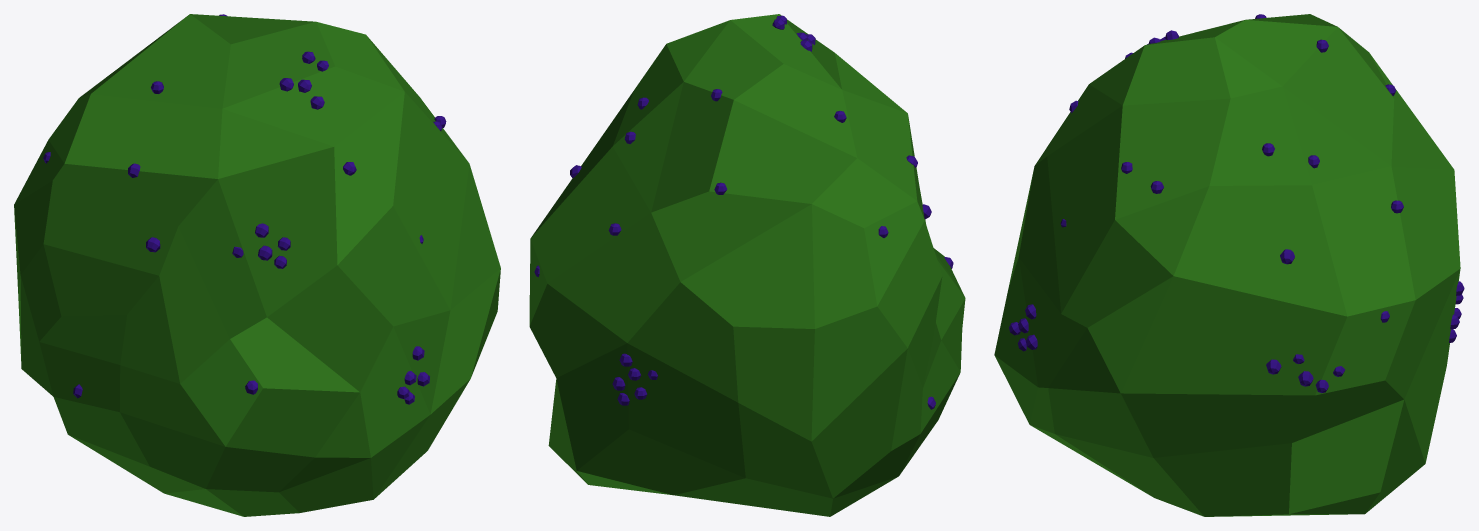
Rendered from Blueberry2.fbx.
The picture shows the model from 3 angles, left to right: view 1: azimuth 30°, elevation 25°; view 2: azimuth 150°, elevation 25°; view 3: azimuth 270°, elevation 25°; orthographic projection. The views are drawn at different scales.
Visible parts, largest first — view 1: Blueberry2; view 2: Blueberry2; view 3: Blueberry2.
Boxes of the visible parts, <box> form: Blueberry2: <box>14,14,500,516</box>; Blueberry2: <box>529,14,965,516</box>; Blueberry2: <box>994,14,1464,516</box>.
Bounding box in the file's own units: 198 × 217 × 203.
